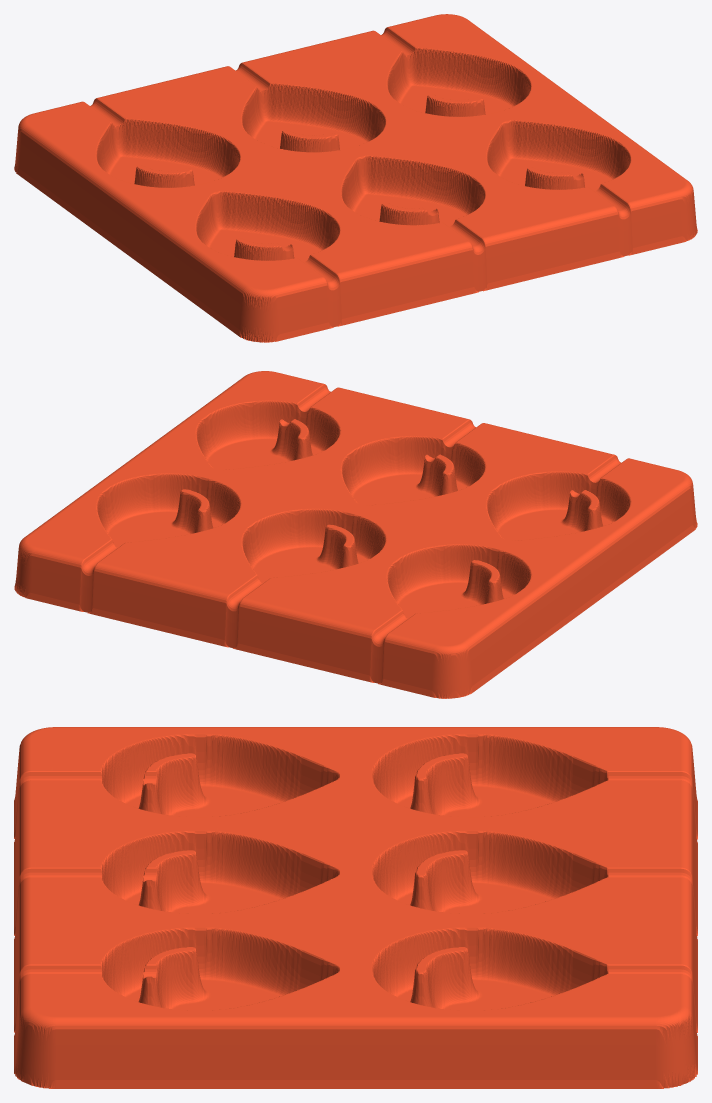
File: mold.glb
3 views of the same model, one above another, from view 1: azimuth 30°, elevation 25°; view 2: azimuth 150°, elevation 25°; view 3: azimuth 270°, elevation 25° (orthographic). The views are drawn at different scales.
Visible parts, largest first — view 1: geometry_0; view 2: geometry_0; view 3: geometry_0.
Part boxes in pixels (left/top/right/bottom): geometry_0: left=14, top=14, right=697, bottom=342; geometry_0: left=14, top=371, right=697, bottom=698; geometry_0: left=14, top=727, right=697, bottom=1088.
Bounding box in the file's own units: 0.1548 × 0.0155 × 0.1477.
